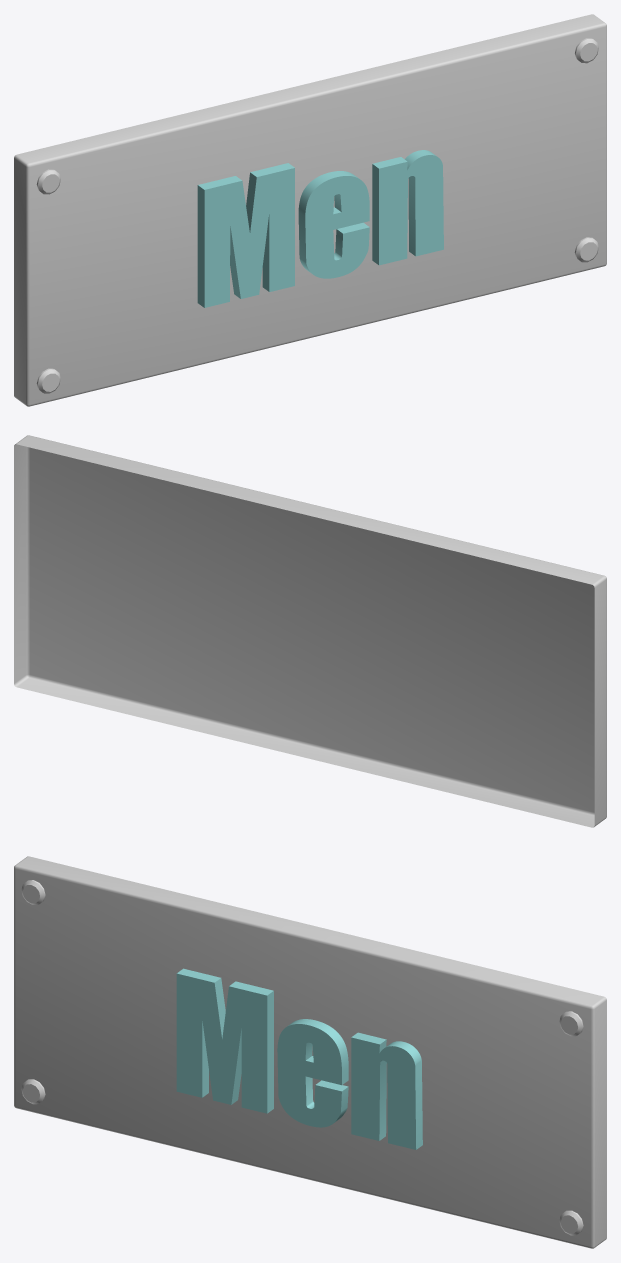
Rendered from SM_RRMenSign.FBX.
3 views of the same model, one above another, from view 1: azimuth 30°, elevation 25°; view 2: azimuth 150°, elevation 25°; view 3: azimuth 330°, elevation 25° (orthographic).
Parts seen in each view (by area): view 1: SM_RRMenSign_LOD0; view 2: SM_RRMenSign_LOD0; view 3: SM_RRMenSign_LOD0.
Boxes of the visible parts, x1=… form: SM_RRMenSign_LOD0: x1=14, y1=14, x2=606, y2=406; SM_RRMenSign_LOD0: x1=14, y1=435, x2=606, y2=827; SM_RRMenSign_LOD0: x1=14, y1=856, x2=606, y2=1248.
Size of the model in its own units: 50 by 3 by 20.
